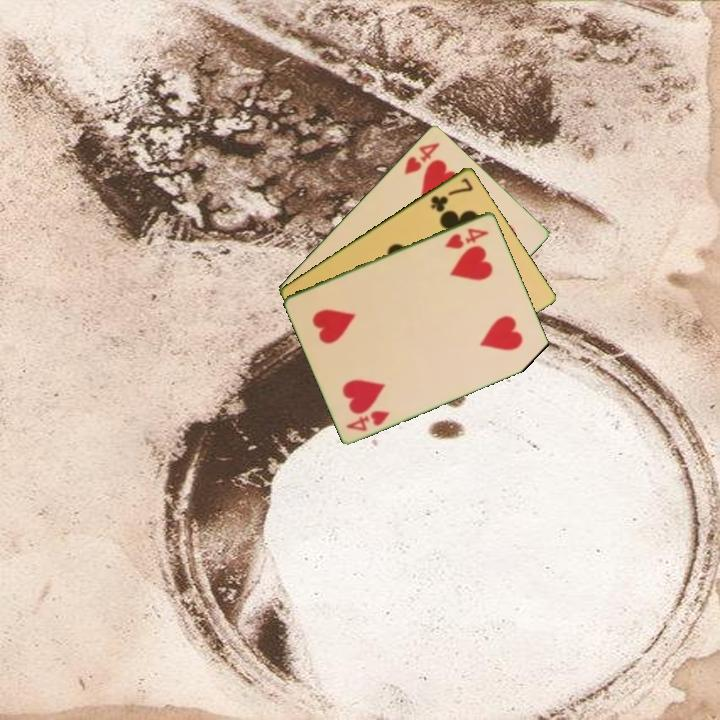4h: (400, 138, 443, 177), (441, 224, 492, 252), (343, 406, 393, 434)
7c: (427, 174, 476, 215)
